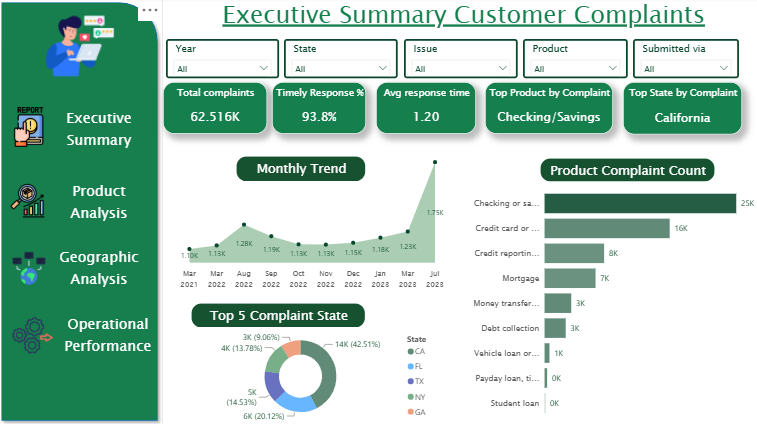

The dashboard page shown, as its layout file describes it:
{"tool":"powerbi","page":{"name":"Executive Summary","canvas":[1280,720],"ordinal":0},"visuals":[{"type":"group","id":"g1","title":"Group 4","box":[0,0,280.5,720.6],"z":0},{"type":"shape","box":[0,0,280.5,720.6],"z":0,"group":"g1"},{"type":"stackedAreaChart","title":"Monthly Trend","fields":{"Category":["Data.Month Year"],"Y":["Data.total complaint"]},"box":[280,251.7,483.3,248.3],"z":1000},{"type":"textbox","title":"Monthly Trend","box":[403.3,266.7,218.3,43.3],"z":2000},{"type":"textbox","title":"Top 5  Complaint State","box":[328.3,513.3,293.3,41.7],"z":3000},{"type":"image","box":[55.4,21.8,171.3,120.9],"z":4000},{"type":"image","box":[13.4,184.8,82.3,67.2],"z":5000},{"type":"image","box":[23.5,300.7,58.8,82.3],"z":6000},{"type":"image","box":[26.9,423.3,57.1,65.5],"z":7000},{"type":"image","box":[26.9,534.2,68.9,68.9],"z":8000},{"type":"shape","title":"Executive Summary Customer Complaints","box":[290,0,990,81.7],"z":9000},{"type":"cardVisual","title":"Total complaints","fields":{"Data":["Count(Data.Complaint ID)"]},"box":[280,143.3,175,86.7],"z":10000},{"type":"cardVisual","title":"Timely Response %","fields":{"Data":["Data.Timely Complaints %"]},"box":[463.3,143.3,158.3,86.7],"z":11000},{"type":"cardVisual","title":"Avg response time","fields":{"Data":["Data.Average Resolution Days"]},"box":[637.8,143.3,168.3,86.7],"z":12000},{"type":"cardVisual","title":"Top Product by Complaint ","fields":{"Data":["Data.Top Complaint Product"]},"box":[822.2,143.3,215,86.7],"z":13000},{"type":"cardVisual","title":"Top State by Complaint","fields":{"Data":["Data.Top State Complaints"]},"box":[1053.3,143.3,200,88.3],"z":14000},{"type":"barChart","fields":{"Category":["Data.Product"],"Y":["Sum(Data.Product Complaint %)"]},"box":[785,300,495,420],"z":16000},{"type":"donutChart","fields":{"Category":["Data.State"],"Y":["Data.total complaint"]},"box":[328.3,555,420,165],"z":17000},{"type":"slicer","fields":{"Values":["Data.Year"]},"box":[285.6,70.6,189.8,65.5],"z":18000},{"type":"slicer","fields":{"Values":["Data.State"]},"box":[484.2,70.6,191.5,65.5],"z":19000},{"type":"slicer","fields":{"Values":["Data.Product"]},"box":[884.8,70.6,176.4,65.5],"z":20000},{"type":"slicer","fields":{"Values":["Data.Submitted via"]},"box":[1070,70.6,178.1,65.5],"z":21000},{"type":"actionButton","box":[95.7,178.1,154.5,89],"z":22000},{"type":"actionButton","box":[95.7,300.7,154.5,89],"z":23000},{"type":"actionButton","box":[95.7,411.5,154.5,89],"z":24000},{"type":"actionButton","box":[95.7,524.1,184.8,89],"z":25000},{"type":"slicer","fields":{"Values":["Data.Issue"]},"box":[684.5,70.6,191.5,65.5],"z":25001},{"type":"textbox","title":"Product Complaint Count","box":[913.8,270.4,294,40.3],"z":25002}]}

Visuals, with their boxes in screenshot pixels (x1, y1, x2, y2), scaled from the page's 1280x720 canvas onto the 757x424 screenshot:
"Group 4" group: detection(0, 0, 166, 423)
shape: detection(0, 0, 166, 423)
"Monthly Trend" stackedAreaChart: detection(166, 148, 451, 294)
"Monthly Trend" textbox: detection(239, 157, 368, 183)
"Top 5  Complaint State" textbox: detection(194, 302, 368, 327)
image: detection(33, 13, 134, 84)
image: detection(8, 109, 57, 148)
image: detection(14, 177, 49, 226)
image: detection(16, 249, 50, 288)
image: detection(16, 315, 57, 355)
"Executive Summary Customer Complaints" shape: detection(172, 0, 756, 48)
"Total complaints" cardVisual: detection(166, 84, 269, 135)
"Timely Response %" cardVisual: detection(274, 84, 368, 135)
"Avg response time" cardVisual: detection(377, 84, 477, 135)
"Top Product by Complaint " cardVisual: detection(486, 84, 613, 135)
"Top State by Complaint" cardVisual: detection(623, 84, 741, 136)
barChart - Data.Product x Sum(Data.Product Complaint %): detection(464, 177, 756, 423)
donutChart - Data.State x Data.total complaint: detection(194, 327, 443, 423)
slicer - Data.Year: detection(169, 42, 281, 80)
slicer - Data.State: detection(286, 42, 400, 80)
slicer - Data.Product: detection(523, 42, 628, 80)
slicer - Data.Submitted via: detection(633, 42, 738, 80)
actionButton: detection(57, 105, 148, 157)
actionButton: detection(57, 177, 148, 229)
actionButton: detection(57, 242, 148, 295)
actionButton: detection(57, 309, 166, 361)
slicer - Data.Issue: detection(405, 42, 518, 80)
"Product Complaint Count" textbox: detection(540, 159, 714, 183)
